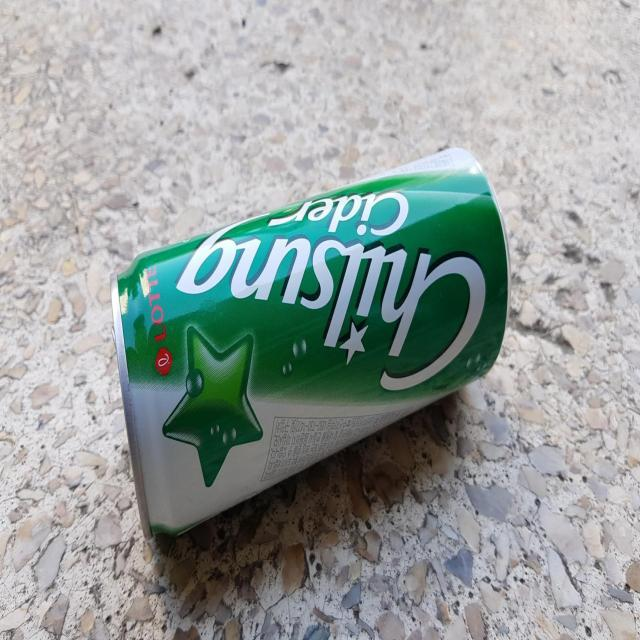can: (110, 147, 510, 539)
